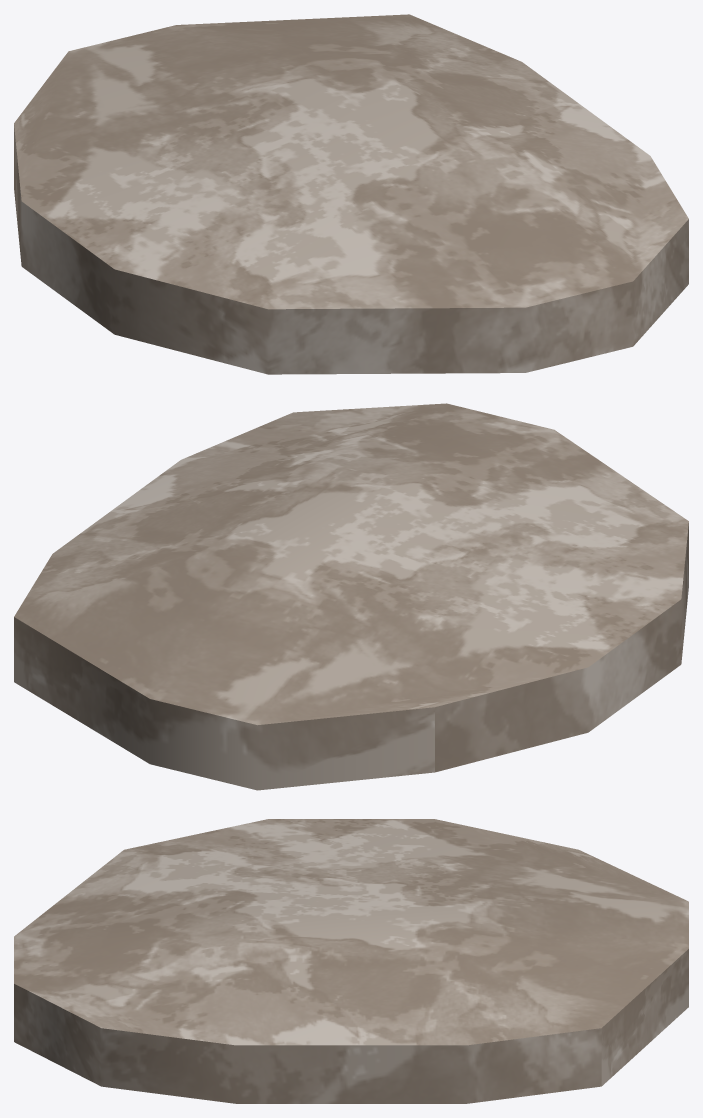
The model's file is Rock_03.fbx.
3 renders of one model, top to bottom at view 1: azimuth 30°, elevation 25°; view 2: azimuth 150°, elevation 25°; view 3: azimuth 270°, elevation 25°, orthographic. The views are drawn at different scales.
Visible parts, largest first — view 1: pCube3; view 2: pCube3; view 3: pCube3.
Boxes of the visible parts, x1,y1,x2,y2 form: pCube3: (14, 14, 688, 374); pCube3: (14, 403, 688, 790); pCube3: (14, 819, 688, 1103).
Bounding box in the file's own units: 141 × 26.23 × 178.
